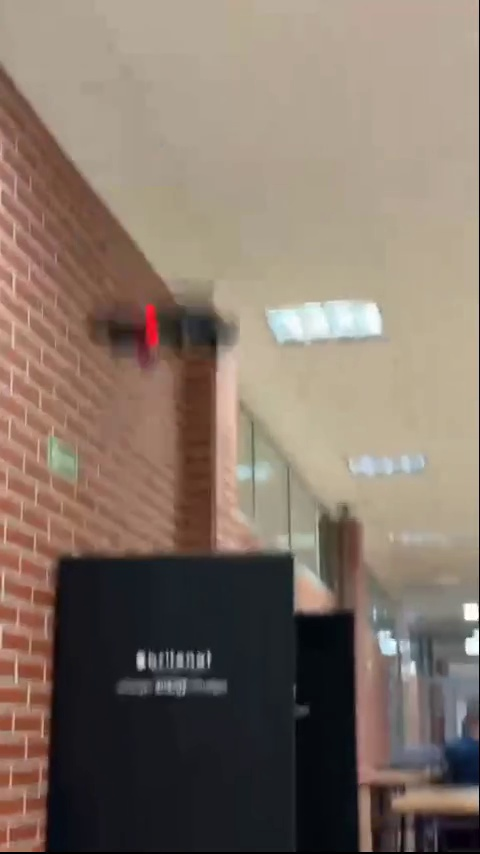drone: (93, 293, 244, 358)
